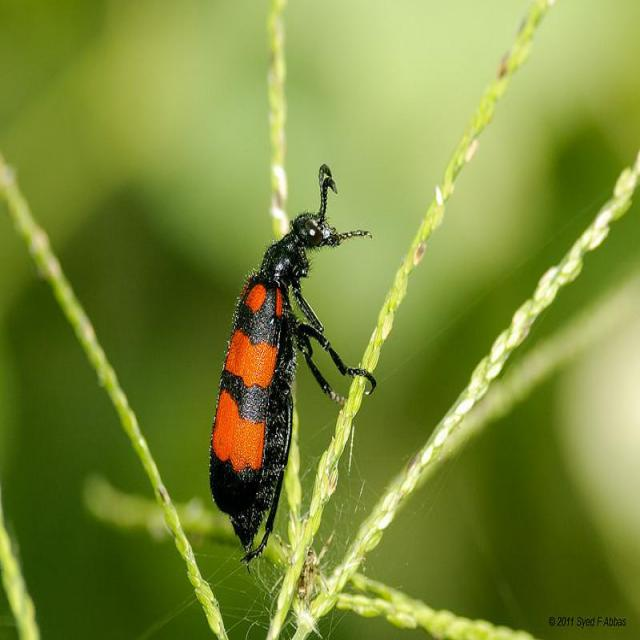BlisterBeetle-Adult-: (204, 159, 380, 566)
